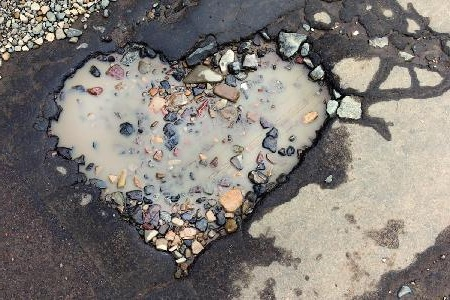pothole: (44, 25, 344, 278)
